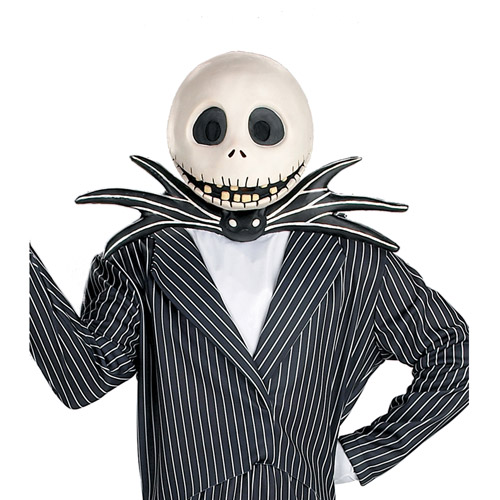Jack Skellington: (30, 50, 470, 500)
